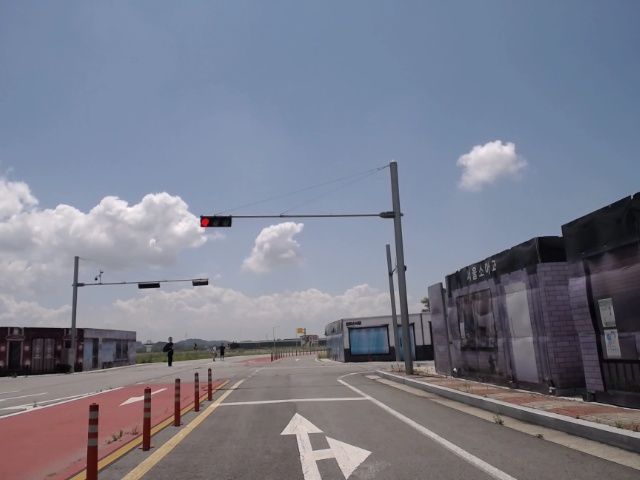red_3: (200, 216, 232, 228)
